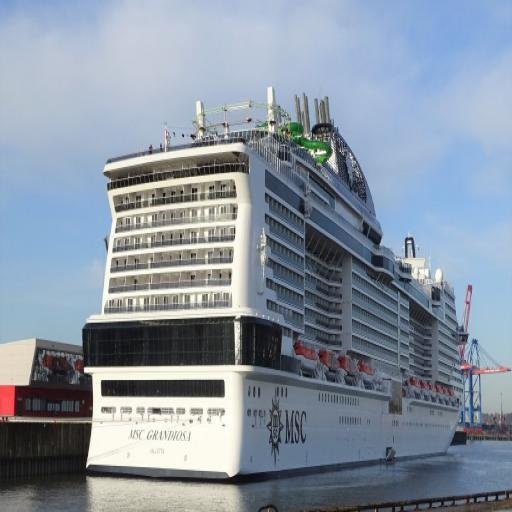cruises: (87, 87, 473, 479)
